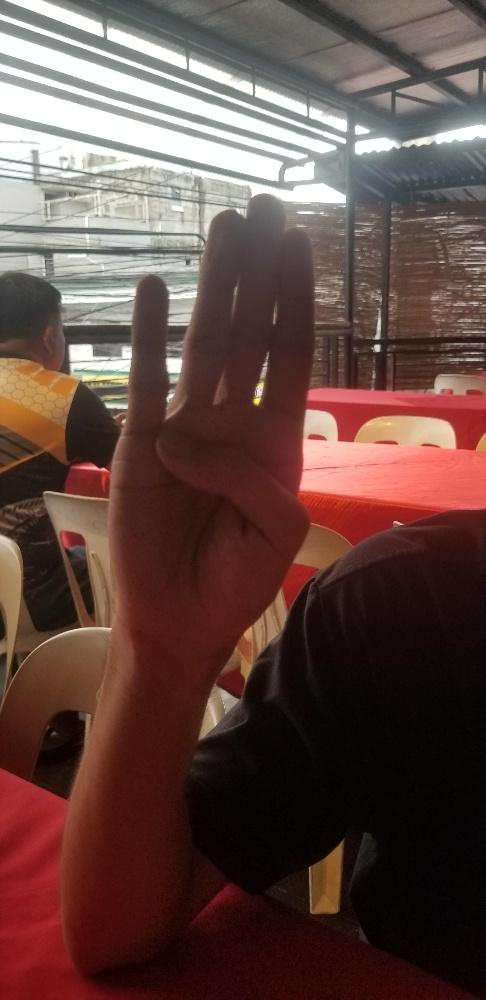b: (103, 188, 320, 655)
